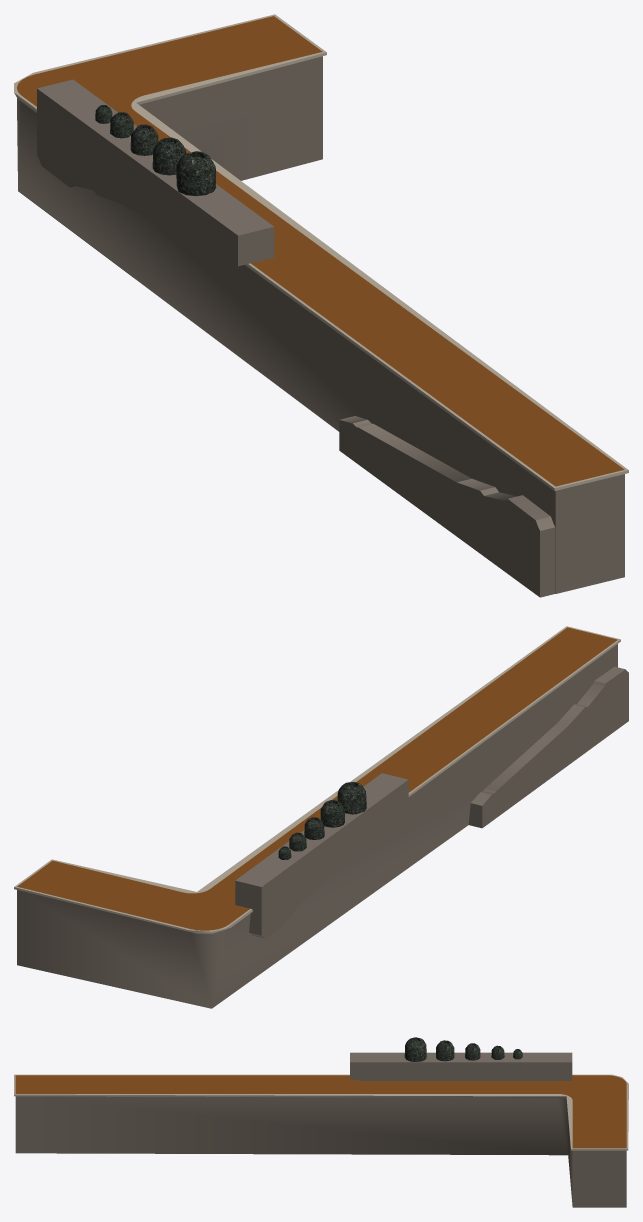
File: concierge-desk.lod1.glb
The picture shows the model from 3 angles, top to bottom: view 1: azimuth 30°, elevation 25°; view 2: azimuth 150°, elevation 25°; view 3: azimuth 270°, elevation 25°; orthographic projection. The views are drawn at different scales.
Parts seen in each view (by area): view 1: defaultMaterial (×2); view 2: defaultMaterial (×2); view 3: defaultMaterial (×2).
Boxes of the visible parts, bbox=[...] form: defaultMaterial (×2): bbox=[14, 14, 628, 597]; defaultMaterial (×2): bbox=[14, 626, 628, 1008]; defaultMaterial (×2): bbox=[14, 1037, 628, 1207].
Size of the model in its own units: 0.8992 by 0.5133 by 3.
2 materials, 1 textured.
